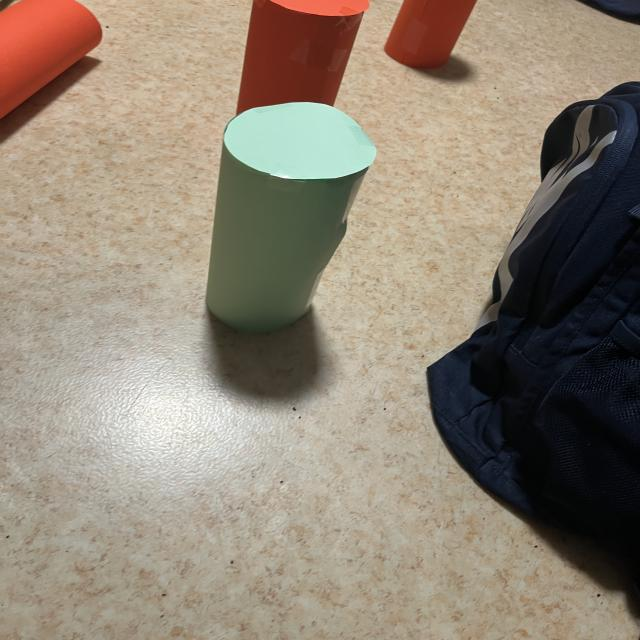meta: (206, 102, 376, 331)
przeszkoda: (236, 0, 369, 114), (0, 0, 102, 117), (385, 0, 476, 68)
